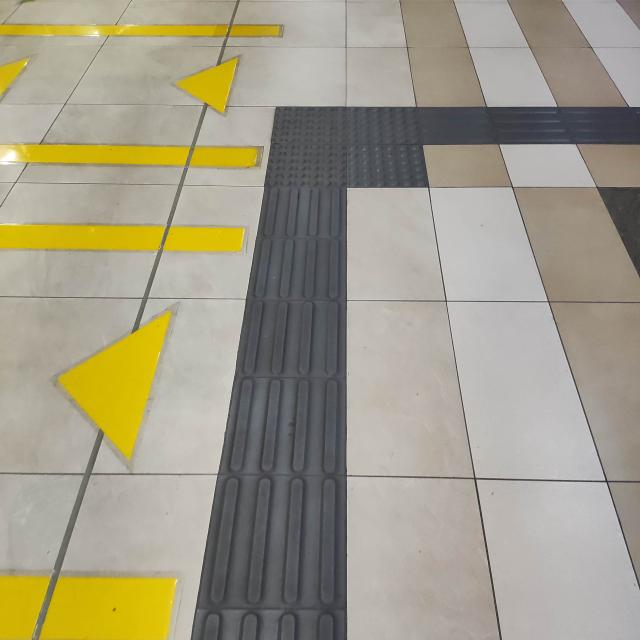kanan: (230, 80, 544, 216)
